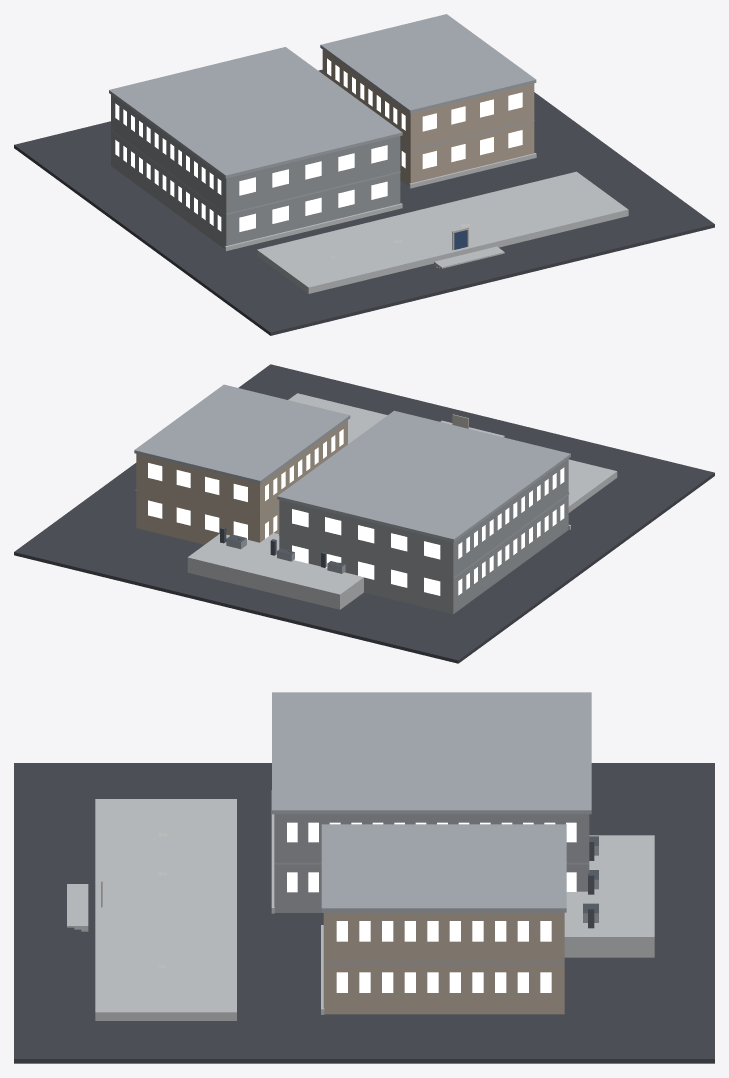
The picture shows the model from 3 angles, top to bottom: view 1: azimuth 30°, elevation 25°; view 2: azimuth 150°, elevation 25°; view 3: azimuth 270°, elevation 25°; orthographic projection. The views are drawn at different scales.
Visible parts, largest first — view 1: b37_x4; view 2: b37_x4; view 3: b37_x4.
Part boxes in pixels (x1=…): b37_x4: x1=14, y1=14, x2=714, y2=335; b37_x4: x1=14, y1=364, x2=714, y2=663; b37_x4: x1=14, y1=692, x2=714, y2=1063.
Size of the model in its own units: 3.96 by 0.694 by 3.96.
